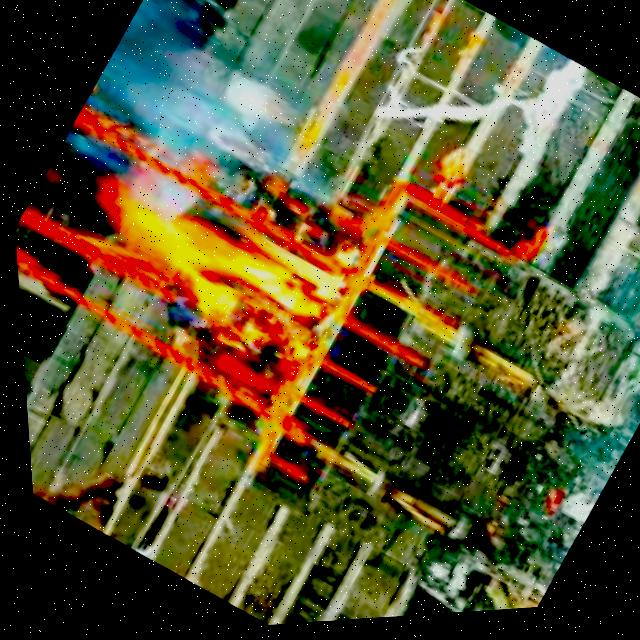Fire: (74, 145, 358, 388)
